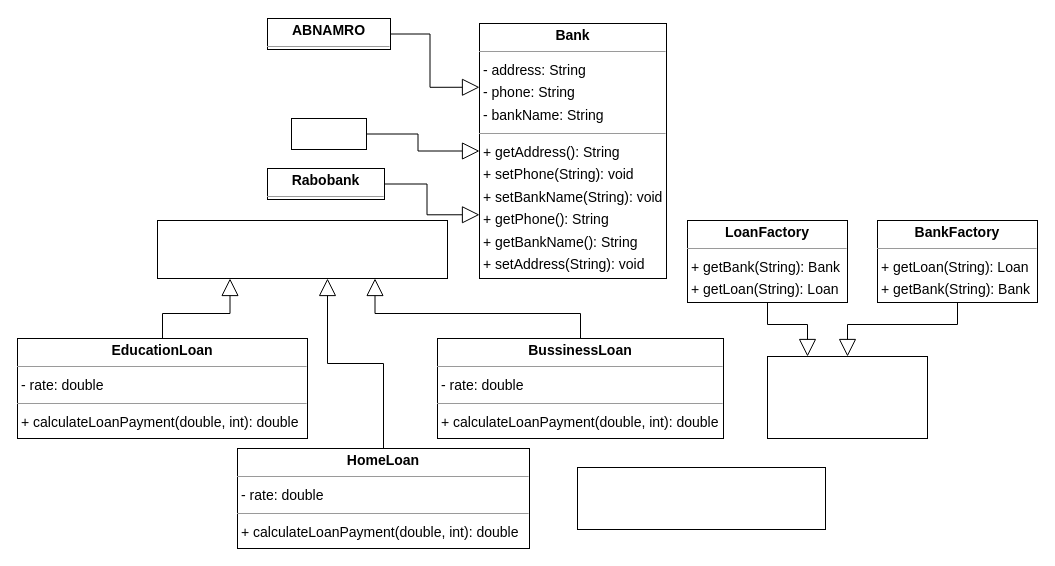
This 1055x566 diagram has some shape labels left out. Each missing label, with the box of its shape:
AbstractFactory + getLoan(String): Loan + getBank(String): Bank: (766, 356, 928, 438)
FactoryCreator + getFactory(String): AbstractFactory: (576, 466, 826, 530)
ING: (290, 118, 366, 150)
Loan + calculateLoanPayment(double, int): double: (156, 220, 448, 278)
